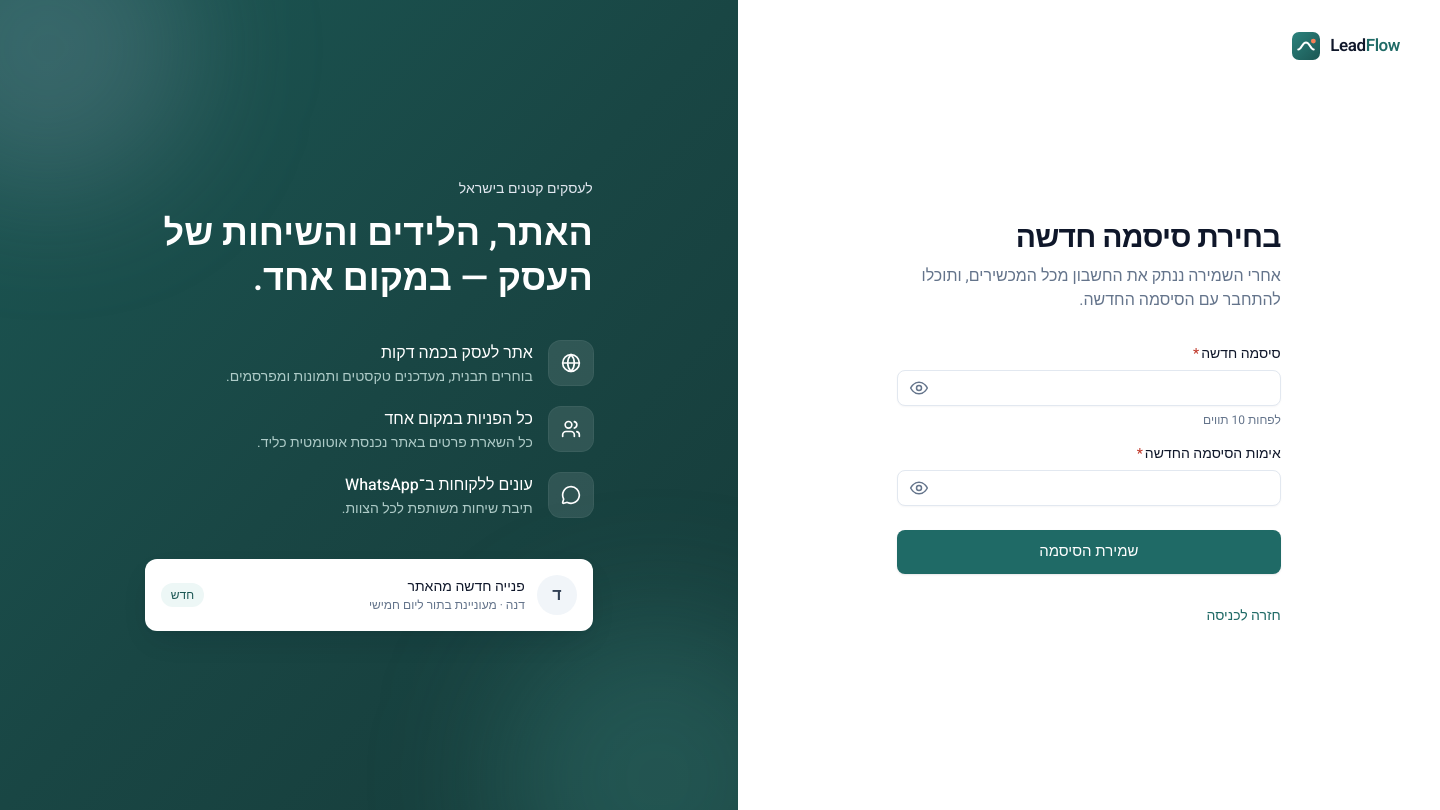
ResetPasswordPage › shows the invalid-link state when the server rejects the token
This screenshot has width=1440, height=810.
Type "a-new-strong-password" into the password field labelled "סיסמה חדשה*".
click(1089, 388); type("a-new-strong-password")  # box [897,370,1281,406]
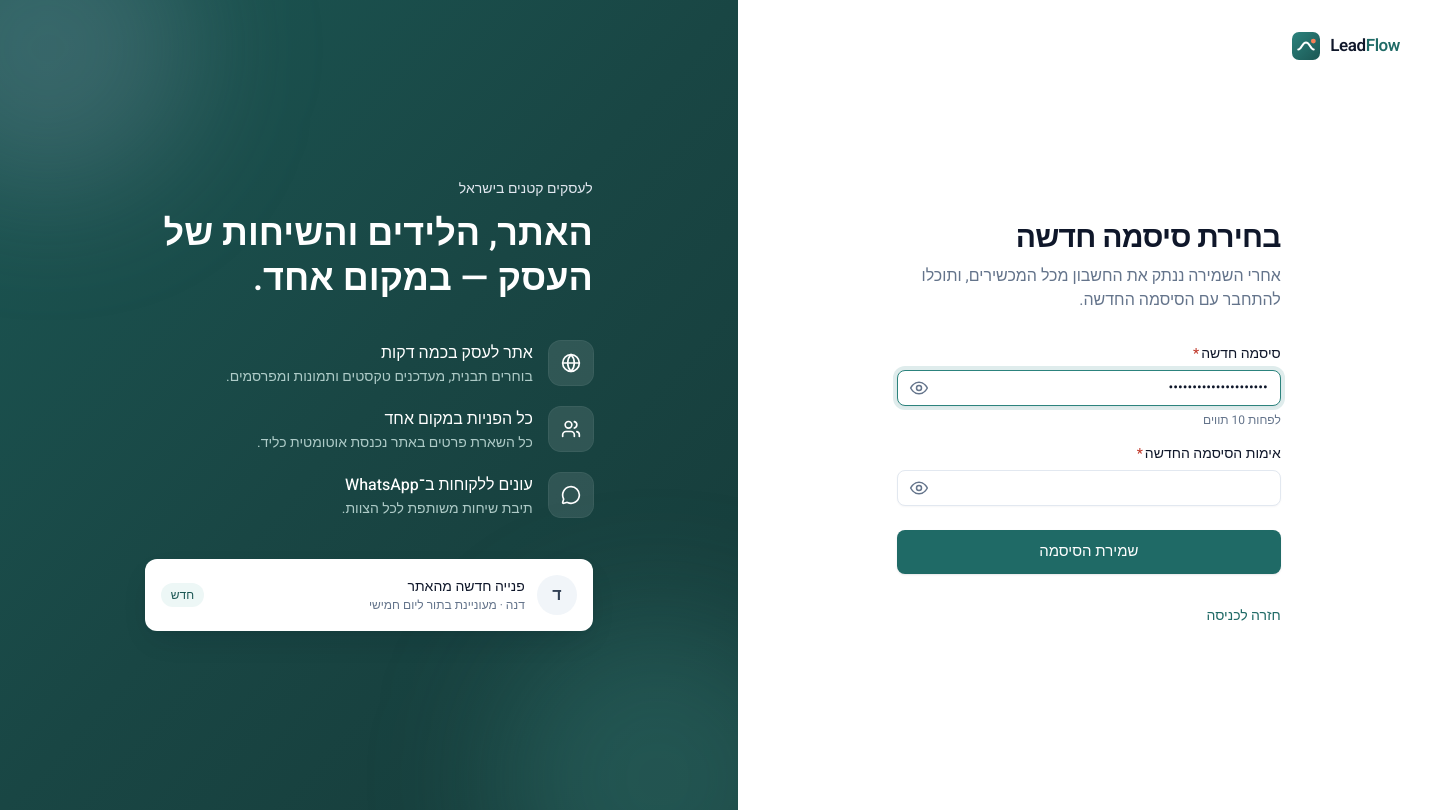
Type "a-new-strong-password" into the password field labelled "אימות הסיסמה החדשה*".
click(1089, 488); type("a-new-strong-password")  # box [897,470,1281,506]
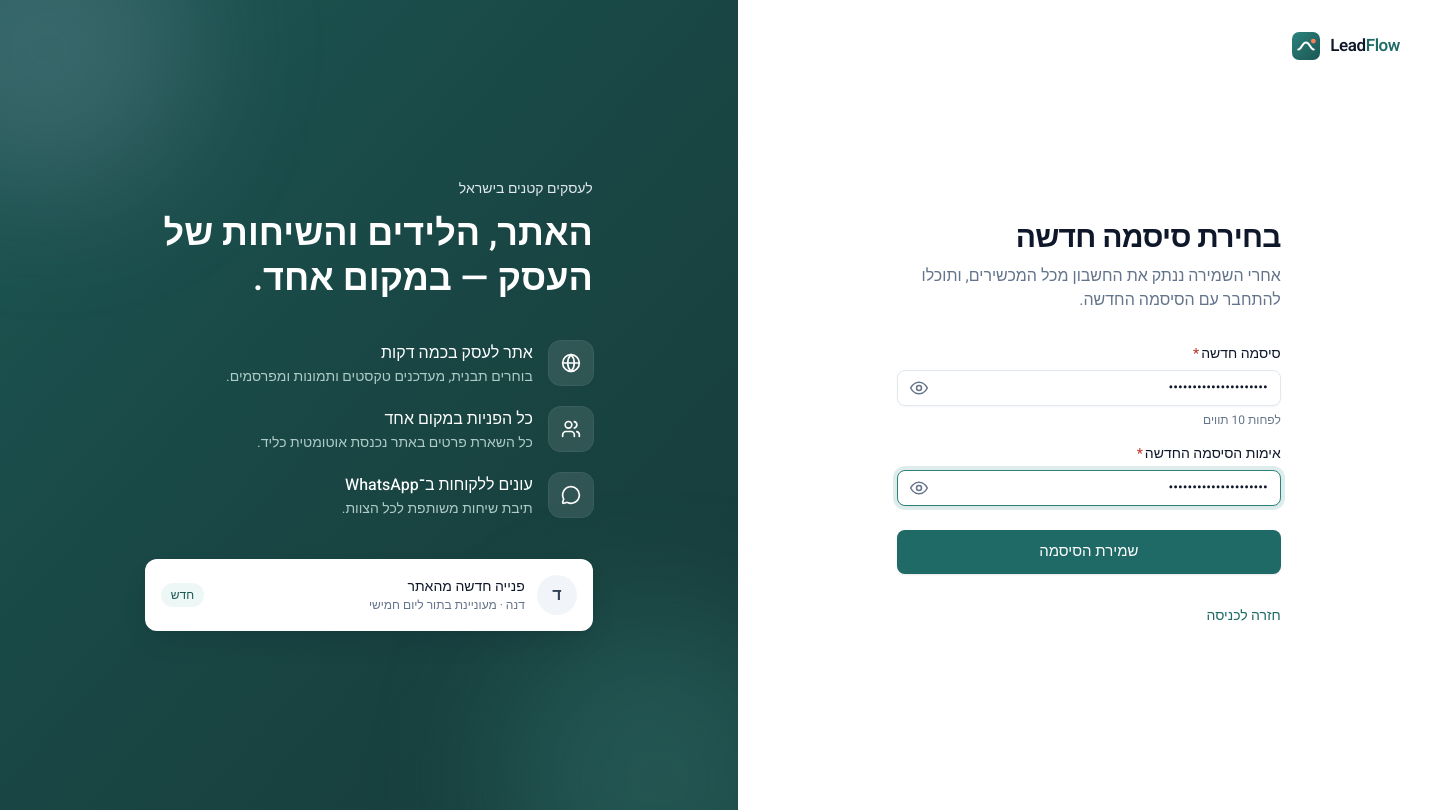
Click the button "שמירת הסיסמה".
click(1089, 552)  # box [897,530,1281,574]
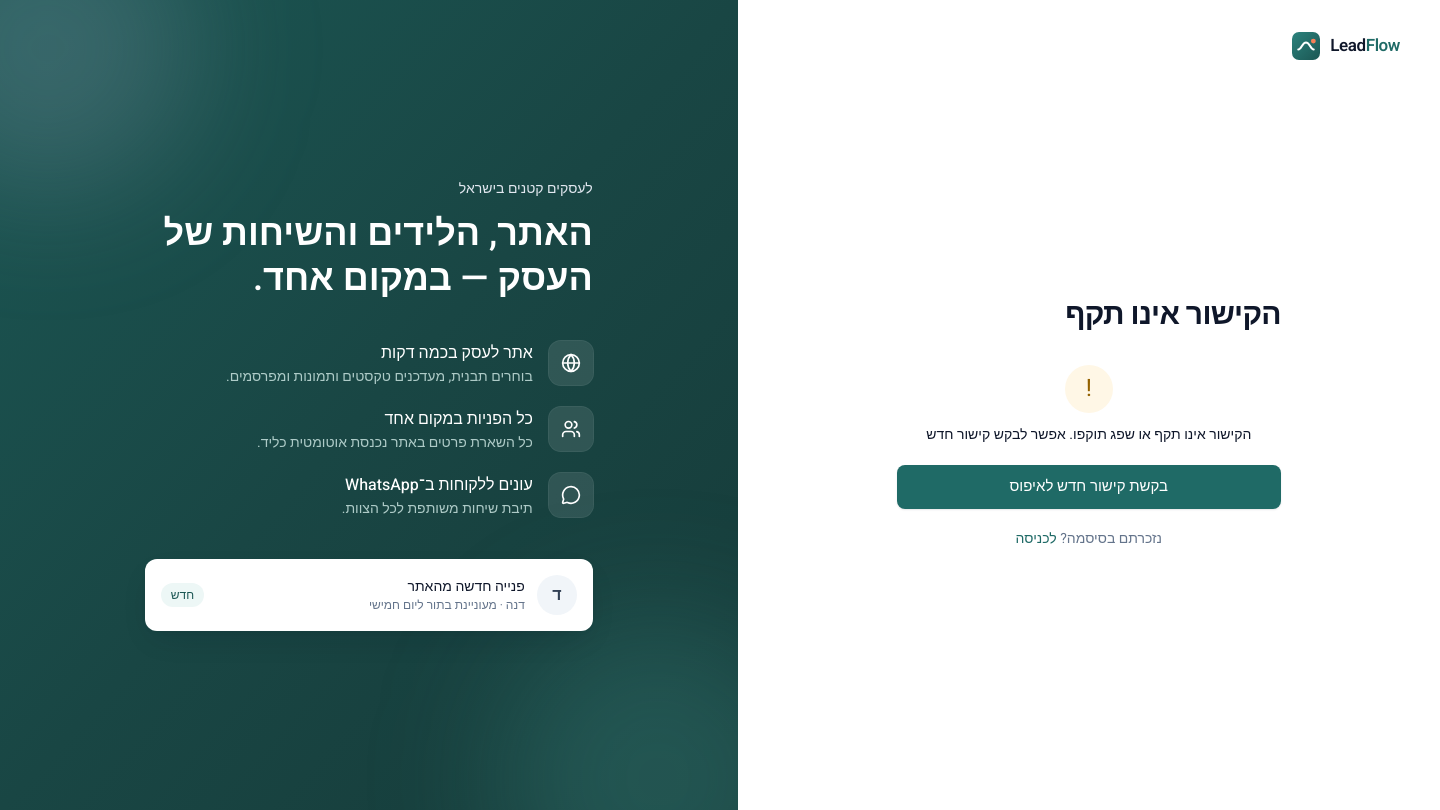
Expected: the text "הקישור אינו תקף או שפג תוקפו. אפשר לבקש קישור חדש" is shown, [926,424,1251,444]
Expected: the link "בקשת קישור חדש לאיפוס" is shown, [897,464,1281,508]
